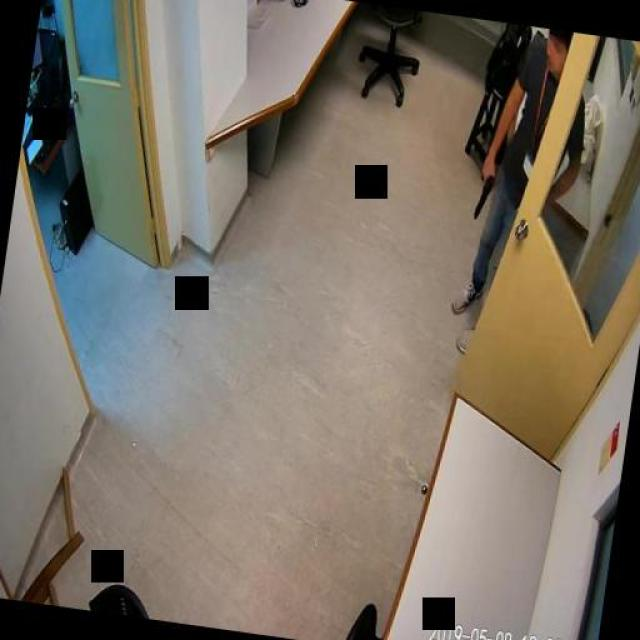gun: (471, 165, 494, 219)
